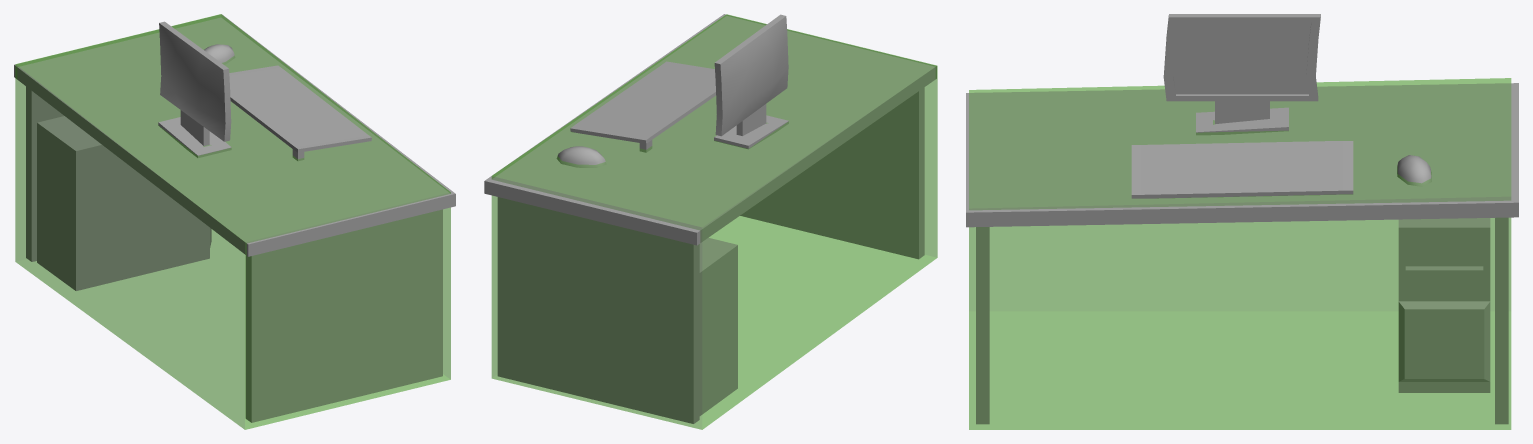
Rendered from Computer_Desk.fbx.
3 renders of one model, left to right at view 1: azimuth 30°, elevation 25°; view 2: azimuth 150°, elevation 25°; view 3: azimuth 270°, elevation 25°, orthographic. The views are drawn at different scales.
Parts seen in each view (by area): view 1: pCube72, pCube7; view 2: pCube72, pCube7; view 3: pCube72, pCube7.
Boxes of the visible parts, box(x1,y1,x2,y2) form: pCube72: box(15, 14, 450, 429); pCube7: box(14, 14, 455, 422); pCube72: box(491, 14, 937, 429); pCube7: box(484, 14, 936, 423); pCube72: box(969, 78, 1511, 429); pCube7: box(966, 14, 1518, 424).
Size of the model in its own units: 113 by 146 by 219.
